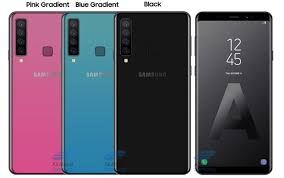samsung: (110, 9, 192, 178), (192, 8, 274, 176), (60, 9, 116, 176), (8, 9, 64, 176)
